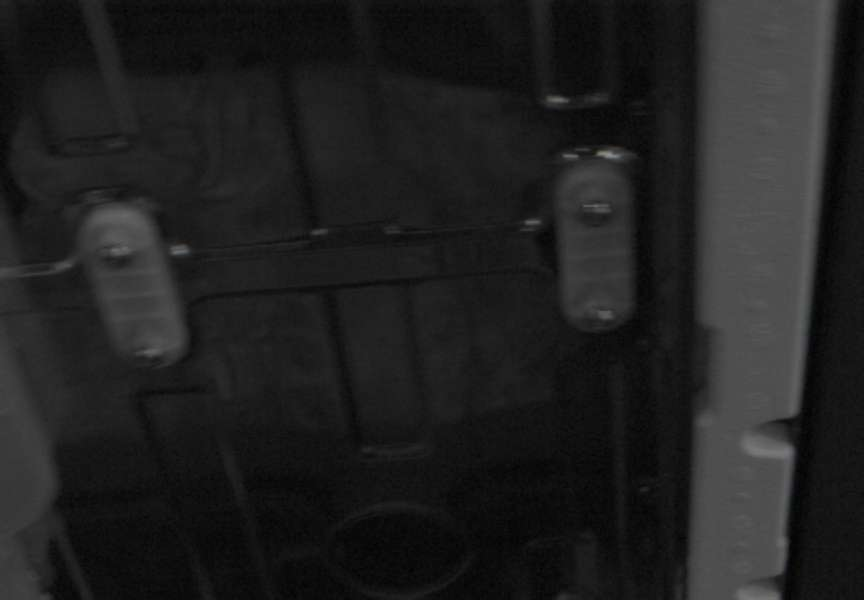screw: (578, 304, 620, 332), (578, 201, 614, 227), (97, 243, 135, 267), (132, 345, 165, 368)
